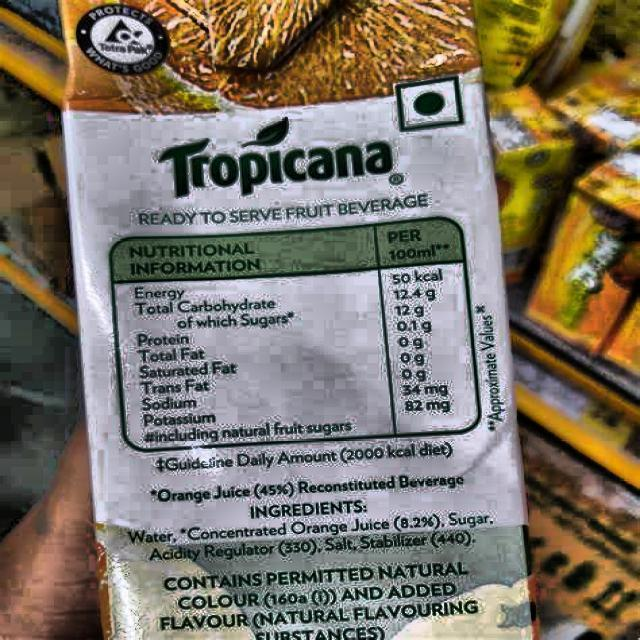cardboard: (58, 0, 540, 639)
